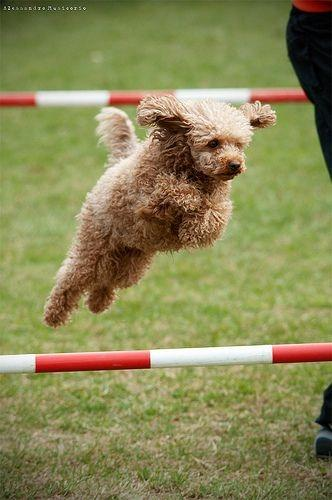adult_dog: (41, 93, 277, 330)
